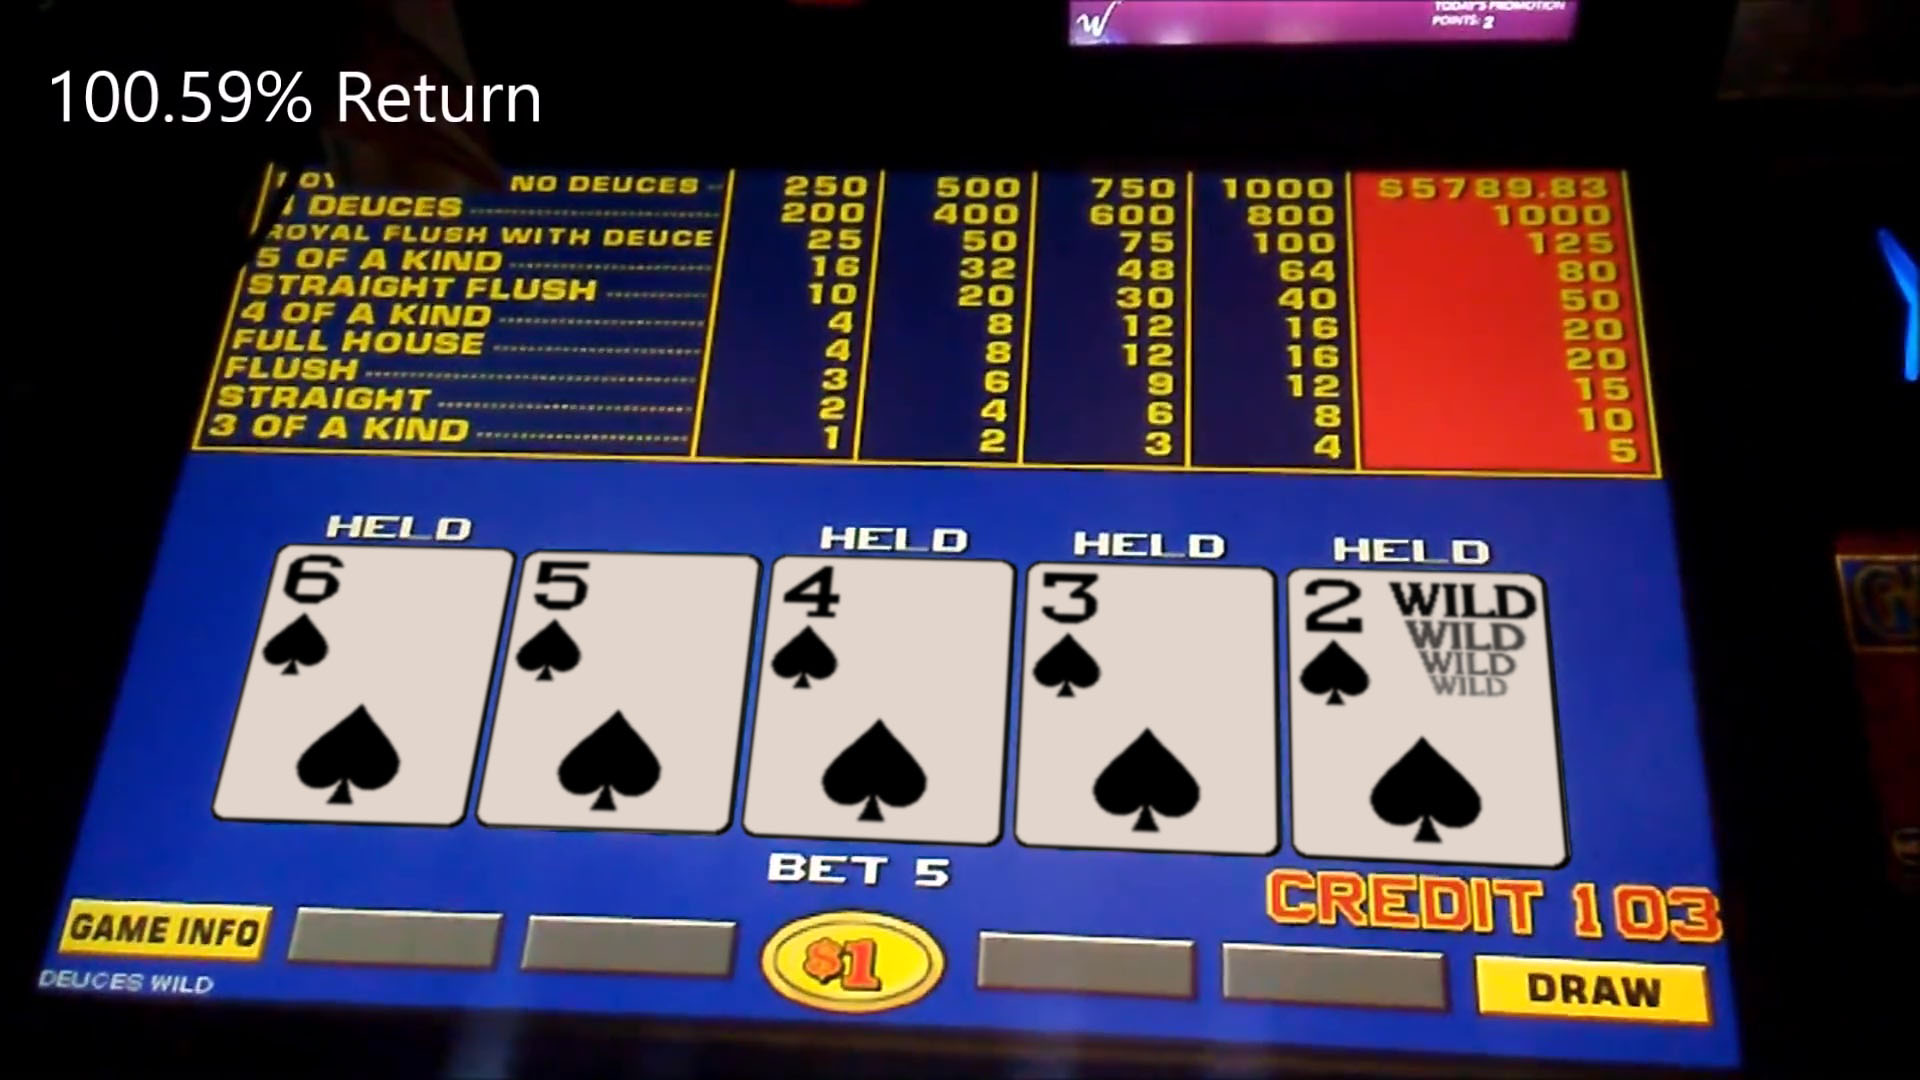S2W: (1294, 575, 1553, 855)
S3: (1029, 564, 1270, 853)
S4: (771, 558, 997, 843)
S5: (522, 553, 735, 828)
S6: (265, 549, 472, 819)
